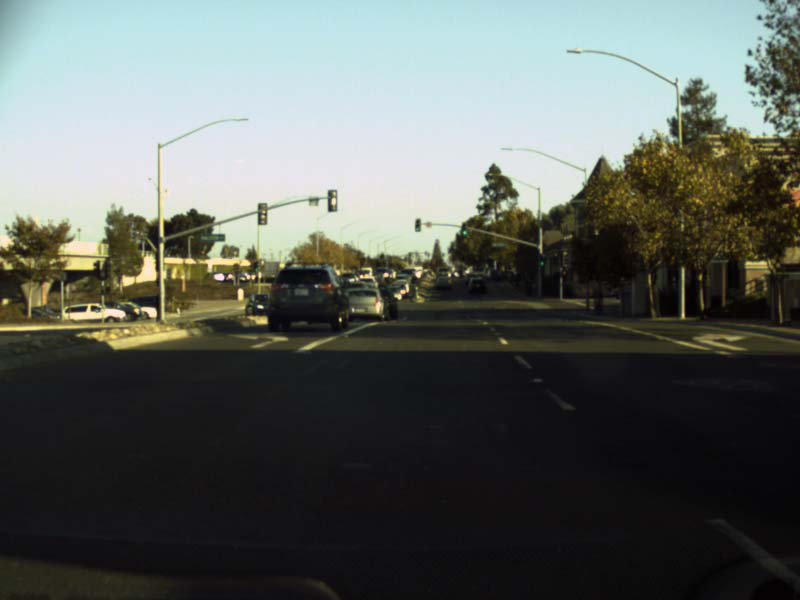Green: (414, 218, 421, 231), (539, 254, 544, 266), (461, 224, 466, 235), (254, 260, 258, 272)
